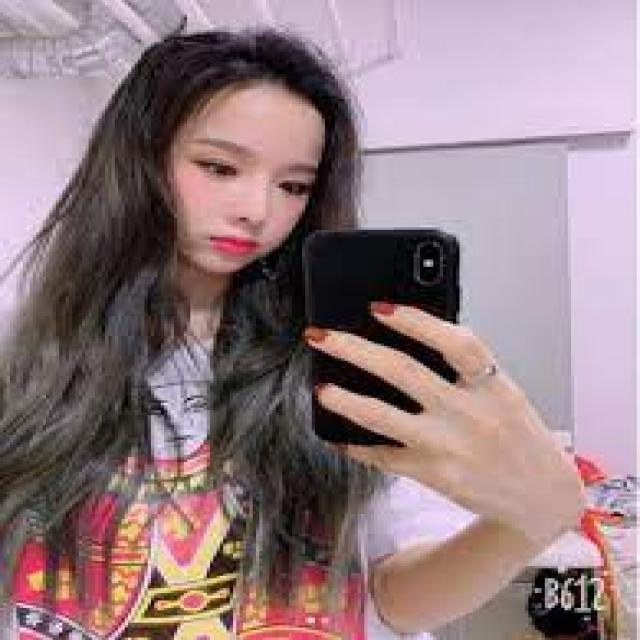Phone: (306, 225, 462, 450)
